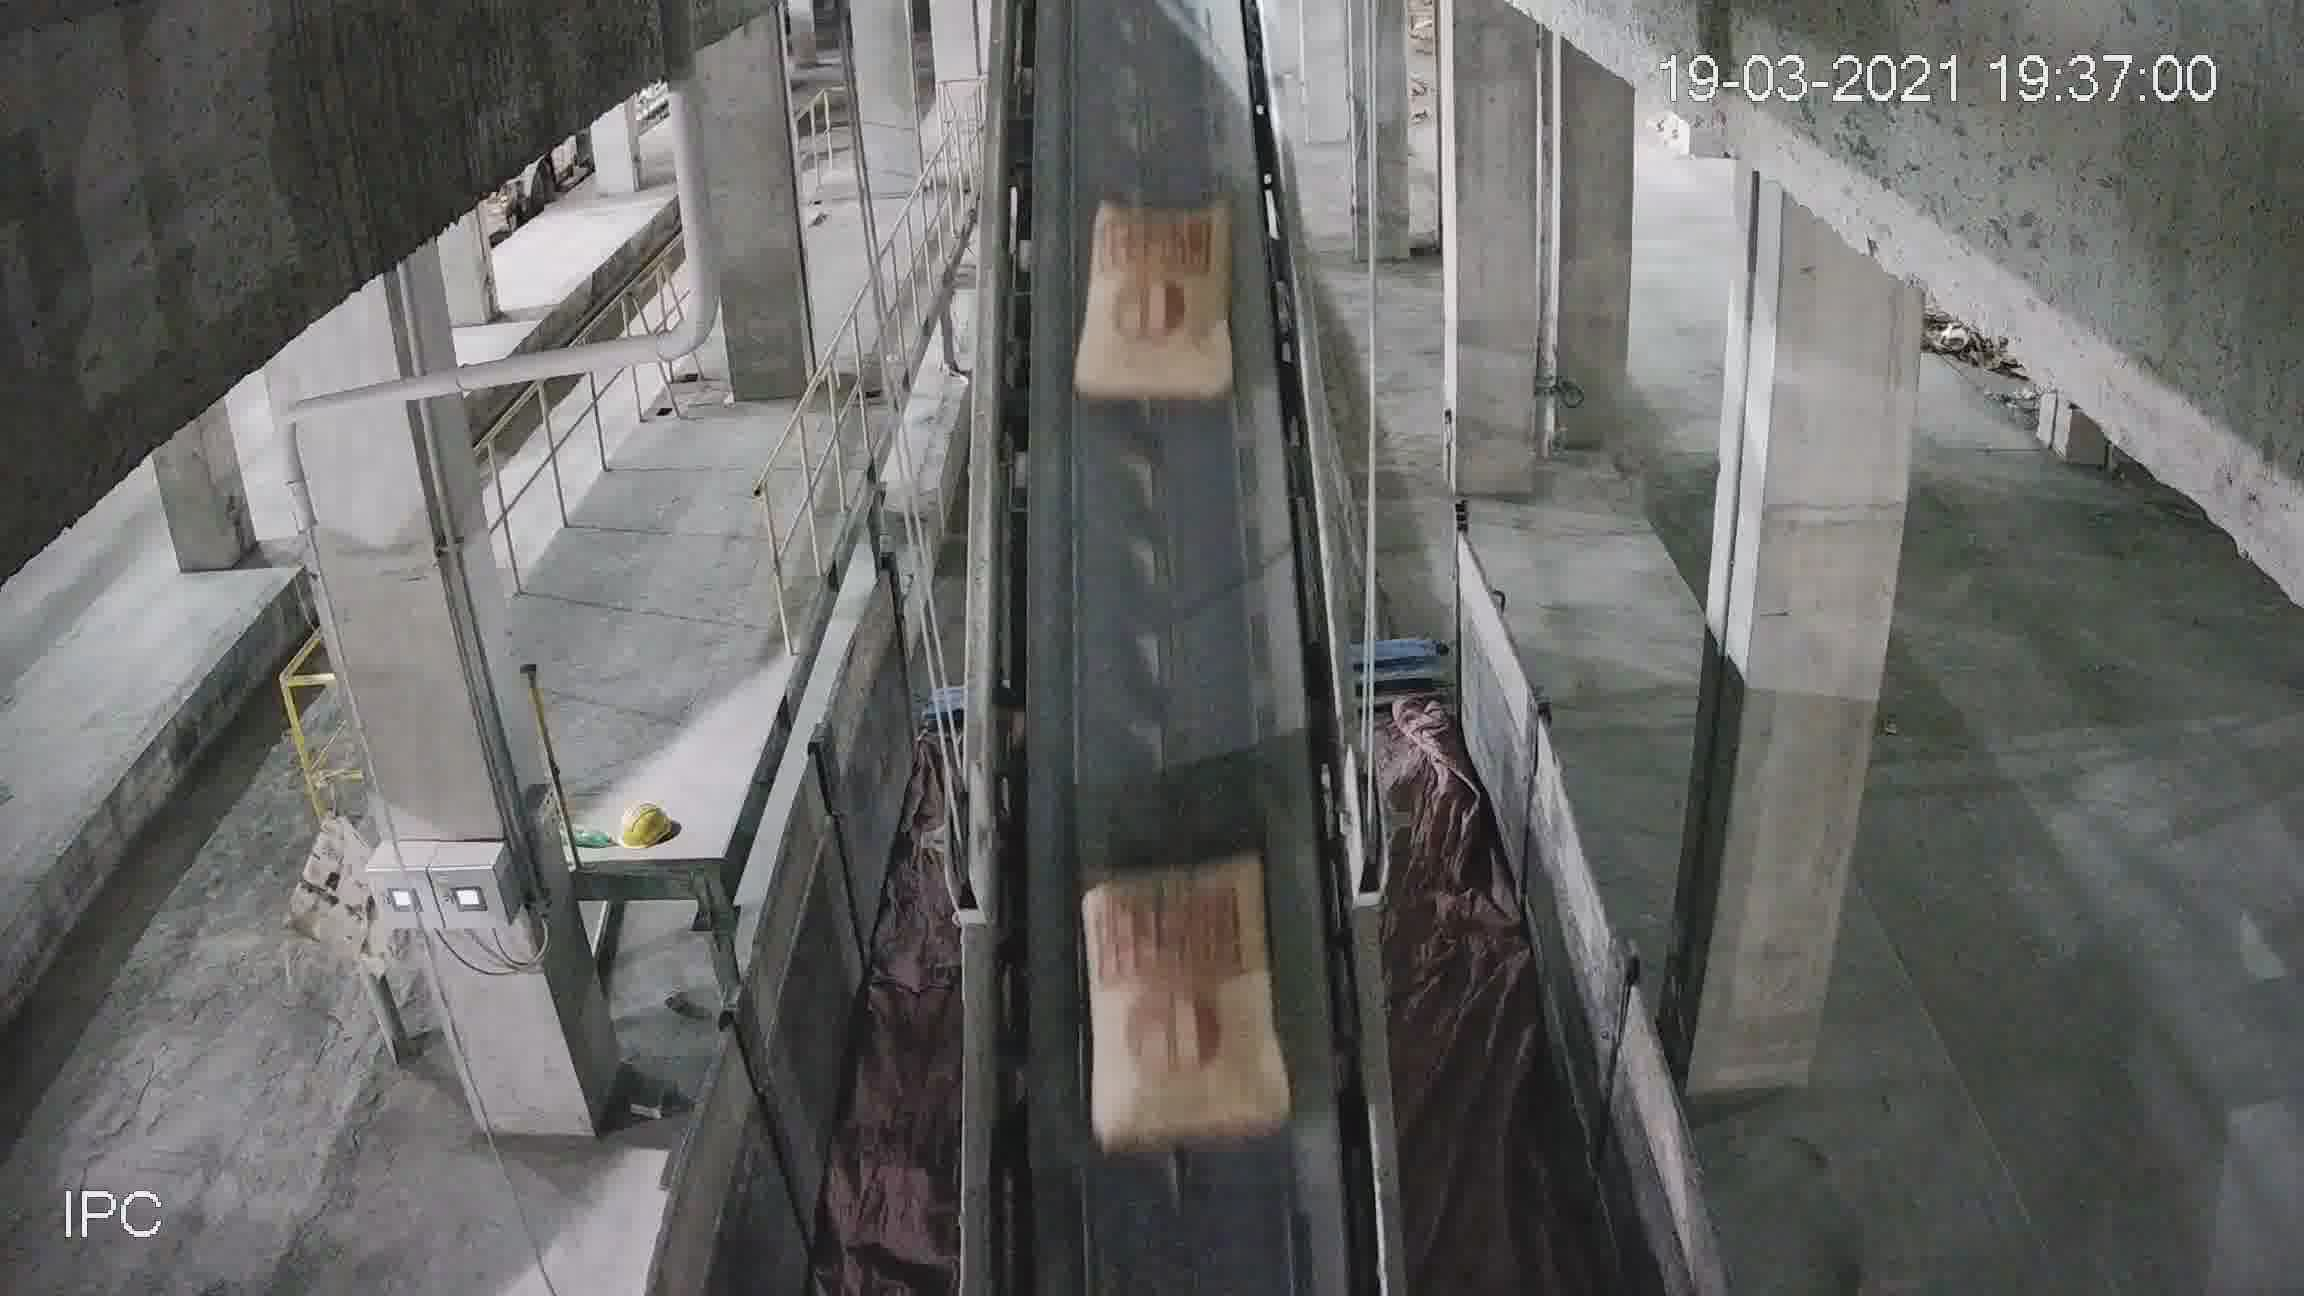bag: (1084, 858, 1282, 1149), (1082, 196, 1237, 400)
belt: (961, 176, 1408, 1195)
